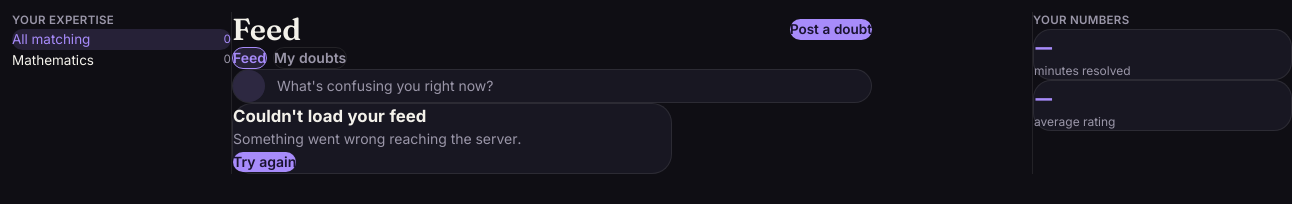
Scenario: FeedPage › shows a retry affordance on error and refetches on click
Step 1. Click the button "Try again" → {"x": 265, "y": 162}, box [233,152,296,172]
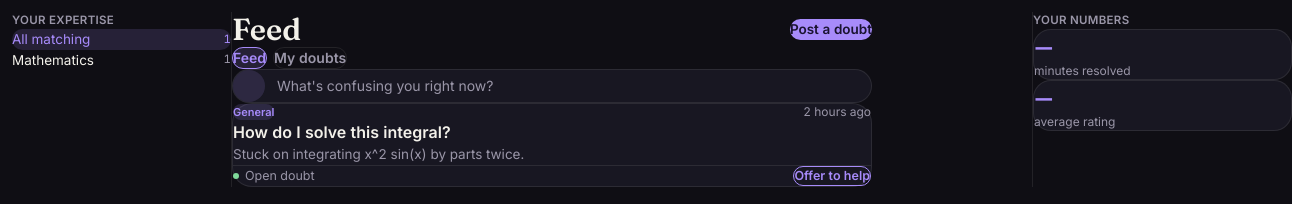
Expected: the heading "How do I solve this integral?" is shown, [233,122,451,142]
